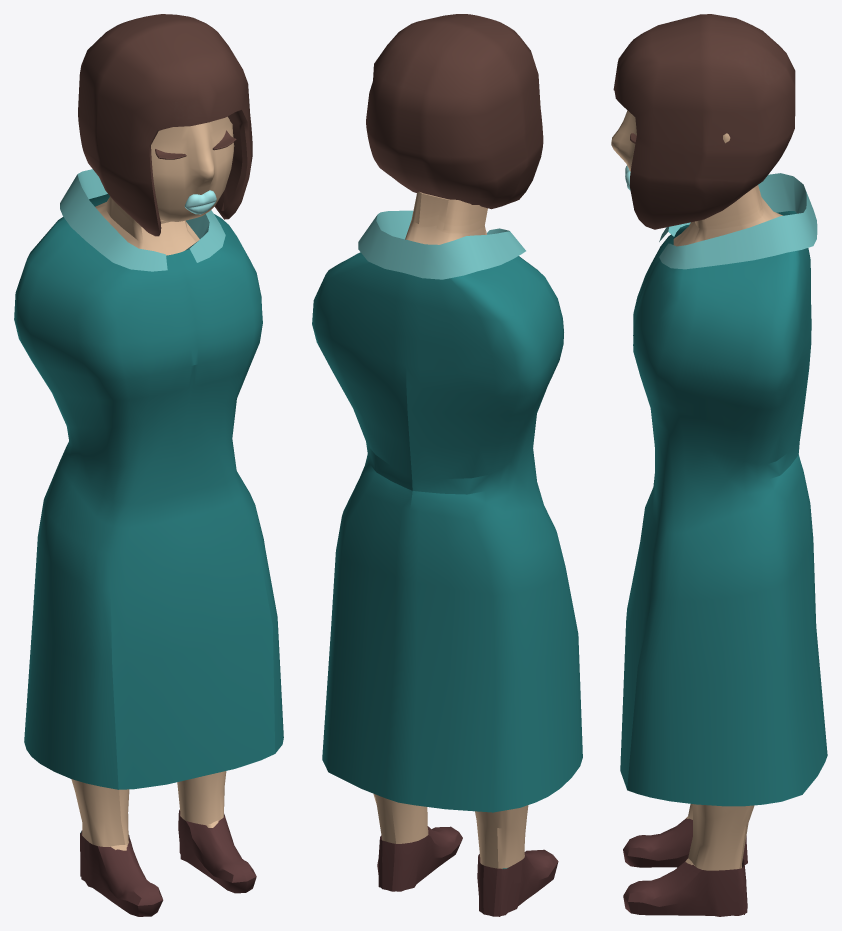
Rendered from FemaleCharacter_70s_v1 (1).fbx.
3 views of the same model, side by side, from view 1: azimuth 30°, elevation 25°; view 2: azimuth 150°, elevation 25°; view 3: azimuth 270°, elevation 25° (orthographic).
Visible parts, largest first — view 1: FemaleCharacter_outfit_70s, F_headgear_70s_v1, FemaleCharacter_Body_70s, F_Head_70s; view 2: FemaleCharacter_outfit_70s, F_headgear_70s_v1, FemaleCharacter_Body_70s; view 3: FemaleCharacter_outfit_70s, F_headgear_70s_v1, FemaleCharacter_Body_70s, F_Head_70s.
Boxes of the visible parts, left/top/right/bottom form: FemaleCharacter_outfit_70s: left=14, top=169, right=283, bottom=916; F_headgear_70s_v1: left=78, top=14, right=252, bottom=236; FemaleCharacter_Body_70s: left=71, top=196, right=226, bottom=850; F_Head_70s: left=151, top=116, right=234, bottom=221; FemaleCharacter_outfit_70s: left=312, top=210, right=582, bottom=916; F_headgear_70s_v1: left=366, top=14, right=543, bottom=209; FemaleCharacter_Body_70s: left=373, top=191, right=528, bottom=868; FemaleCharacter_outfit_70s: left=620, top=173, right=827, bottom=916; F_headgear_70s_v1: left=613, top=14, right=795, bottom=229; FemaleCharacter_Body_70s: left=673, top=185, right=782, bottom=870; F_Head_70s: left=611, top=110, right=730, bottom=171.
Size of the model in its own units: 4.08 by 14.88 by 3.38.
